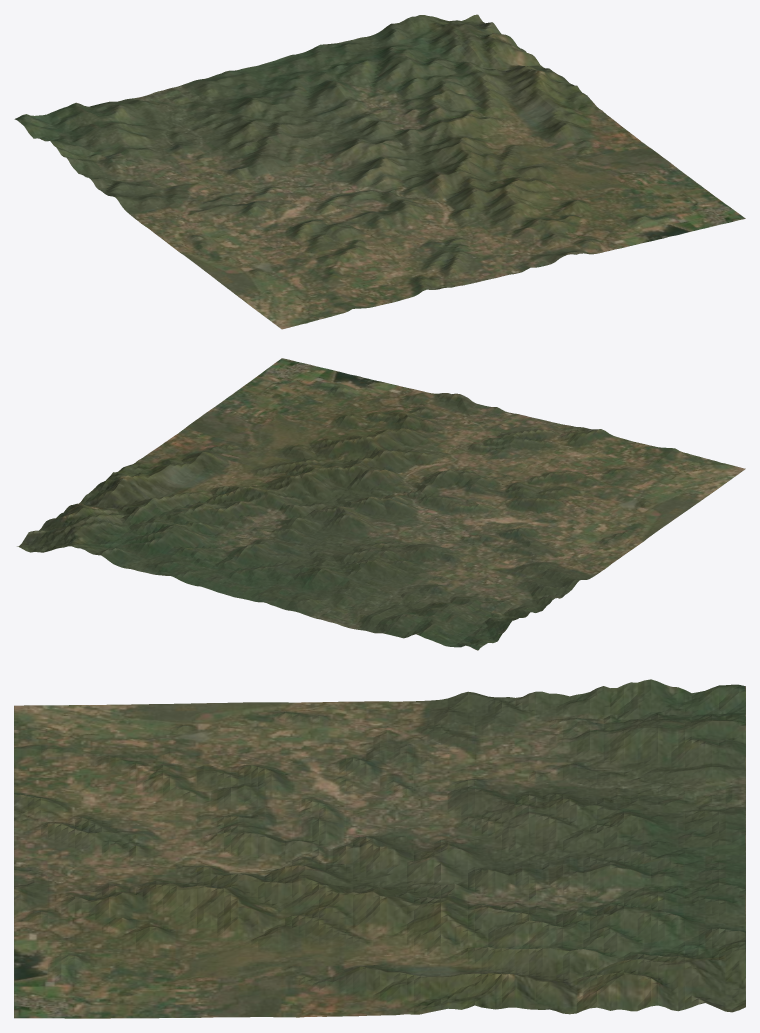
The picture shows the model from 3 angles, top to bottom: view 1: azimuth 30°, elevation 25°; view 2: azimuth 150°, elevation 25°; view 3: azimuth 270°, elevation 25°; orthographic projection. The views are drawn at different scales.
Parts seen in each view (by area): view 1: geometry_0; view 2: geometry_0; view 3: geometry_0.
Boxes of the visible parts, x1=… form: geometry_0: x1=14, y1=14, x2=745, y2=329; geometry_0: x1=17, y1=358, x2=745, y2=650; geometry_0: x1=14, y1=679, x2=745, y2=1018.
Bounding box in the file's own units: 10011 × 489 × 10010.
Materials: 1 (1 with a texture image).
